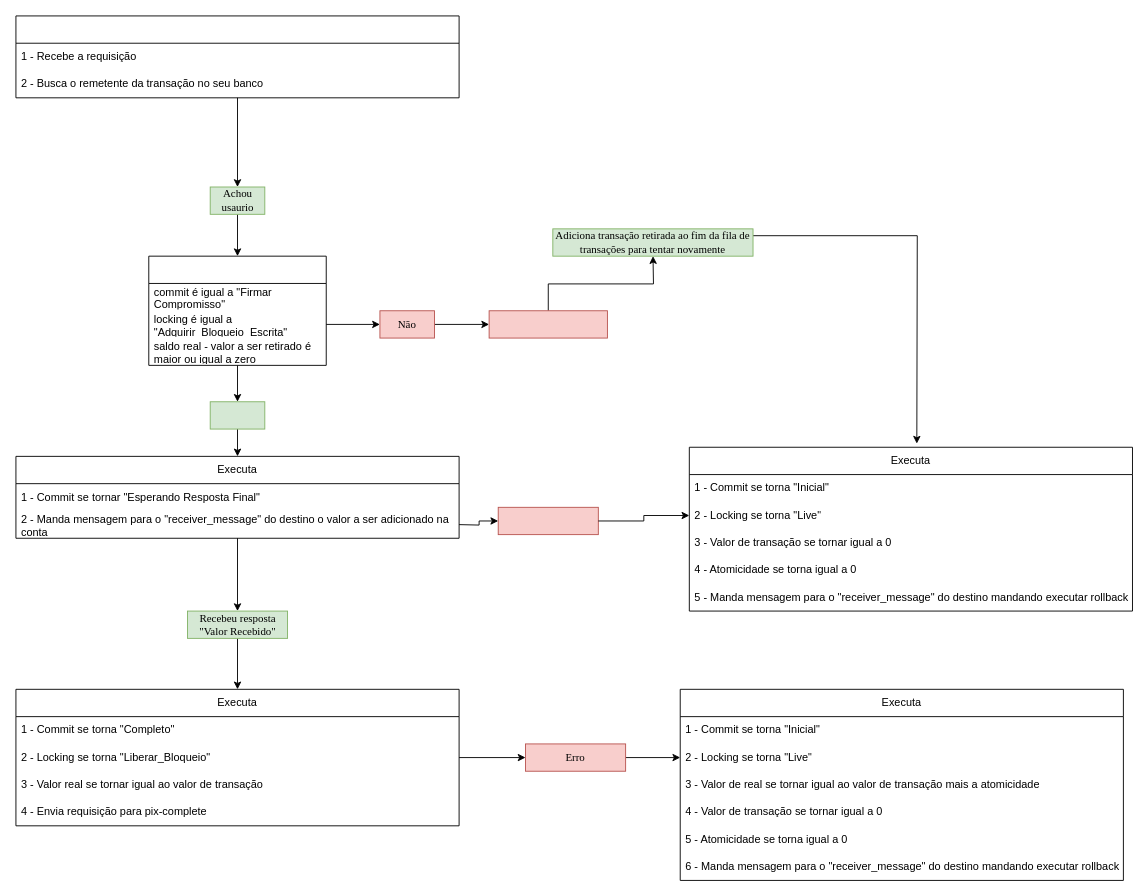
This 1148x896 diagram has some shape labels left out. Here are the shapes that lost their labels. From the top down, the box of each, then its label:
(15, 15, 459, 98): pix-commit
(148, 255, 326, 365): Verifica se tods são verdadeiras:
(488, 310, 607, 338): Retira transação da fila
(209, 401, 265, 429): Sim
(497, 506, 598, 535): Outra resposta ou erro
